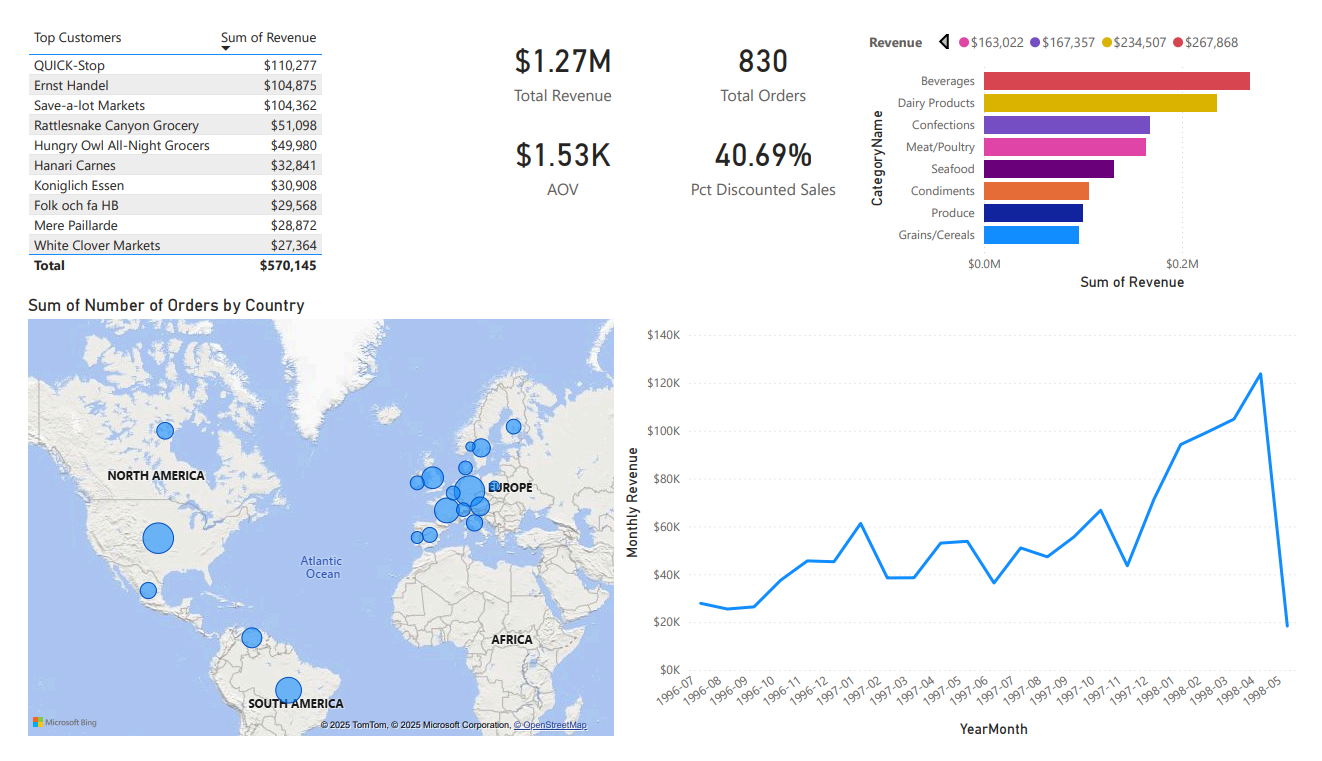

Layout of this report page (visuals, bound fields, positions):
{"tool":"powerbi","page":{"name":"Page 1","canvas":[1280,720],"ordinal":0},"visuals":[{"type":"lineChart","fields":{"Category":["Query1.YearMonth"],"Y":["Query1.Monthly Revenue"]},"box":[596.2,298.6,683.8,421.2],"z":0},{"type":"barChart","fields":{"Category":["Query3.CategoryName"],"Y":["Sum(Query3.Revenue)"],"Series":["Query3.Revenue"]},"box":[841.2,0,438.8,272.5],"z":1000},{"type":"map","fields":{"Category":["Query4.Country"],"Size":["Sum(Query4.Number of Orders)"]},"box":[0,273.3,596.2,446.4],"z":2000},{"type":"card","fields":{"Values":["Query1.Total Revenue"]},"box":[439.6,0,200.4,94.3],"z":3000,"group":"g1"},{"type":"tableEx","fields":{"Values":["Query7.Column1","Sum(Query7.Column2)"]},"box":[0,0,333,274],"z":4000},{"type":"card","fields":{"Values":["Query1.Total Orders"]},"box":[640,0,200.4,94.3],"z":5000,"group":"g1"},{"type":"card","fields":{"Values":["Query1.AOV"]},"box":[439.6,94.3,200.4,94.3],"z":6000,"group":"g1"},{"type":"card","fields":{"Values":["Query1.Pct Discounted Sales"]},"box":[640,94.3,200.4,94.3],"z":7000,"group":"g1"},{"type":"group","id":"g1","title":"Group 1","box":[439.6,0,400.7,188.7],"z":7001}]}

Visuals, with their boxes in screenshot pixels (x1, y1, x2, y2), scaled from the page's 1280x720 canvas onto the 1322x761 screenshot:
lineChart - Query1.YearMonth x Query1.Monthly Revenue: 616,316,1321,760
barChart - Query3.CategoryName x Sum(Query3.Revenue): 869,0,1321,288
map - Query4.Country x Sum(Query4.Number of Orders): 0,289,616,760
card - Query1.Total Revenue: 454,0,661,100
tableEx - Query7.Column1 x Sum(Query7.Column2): 0,0,344,290
card - Query1.Total Orders: 661,0,868,100
card - Query1.AOV: 454,100,661,199
card - Query1.Pct Discounted Sales: 661,100,868,199
"Group 1" group: 454,0,868,199
